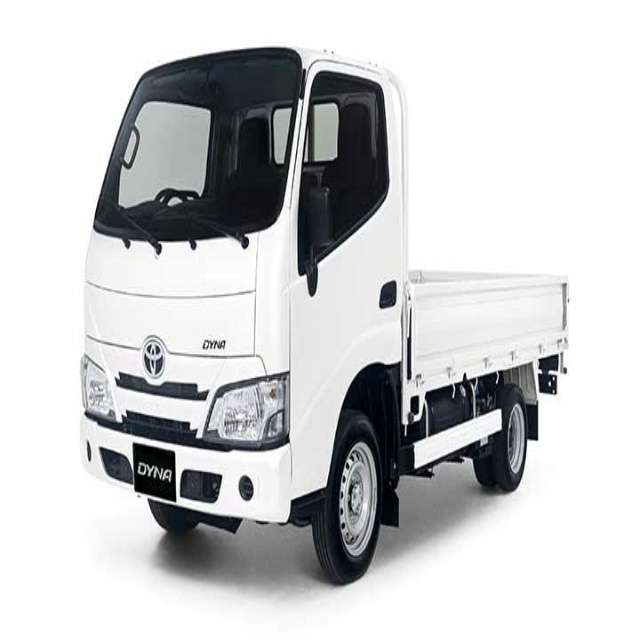Truck: (78, 45, 570, 585)
